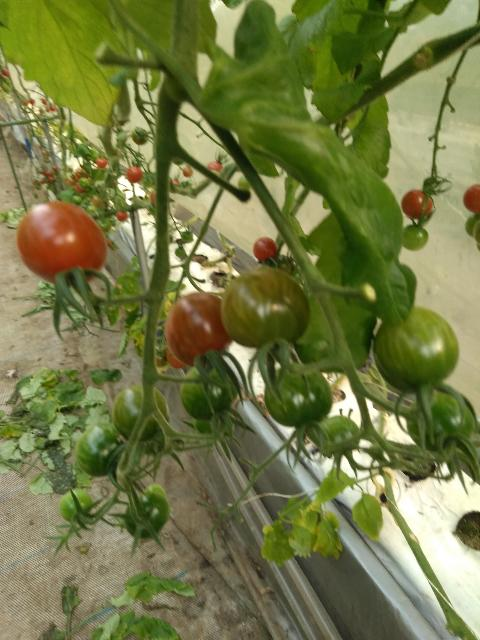l_fully_ripened: (16, 201, 108, 287), (400, 189, 433, 221), (253, 236, 278, 263), (463, 184, 480, 214)
l_green: (373, 305, 460, 392), (221, 266, 311, 350), (264, 362, 333, 427), (406, 391, 475, 452), (180, 361, 238, 423), (113, 385, 169, 443), (74, 423, 124, 478), (124, 492, 169, 540), (313, 415, 360, 454), (59, 488, 93, 523), (403, 224, 428, 252)
l_half_ripened: (165, 293, 233, 368)
